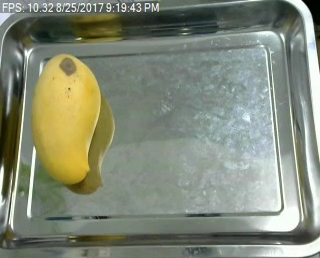Mango: (31, 53, 101, 183)
